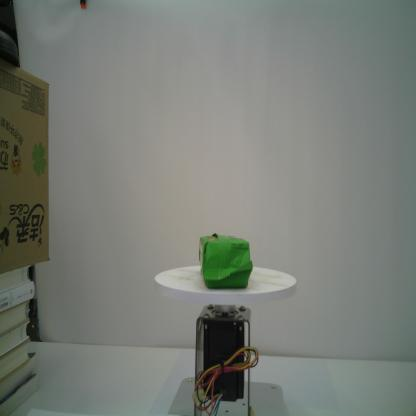Dessert: (199, 233, 253, 290)
